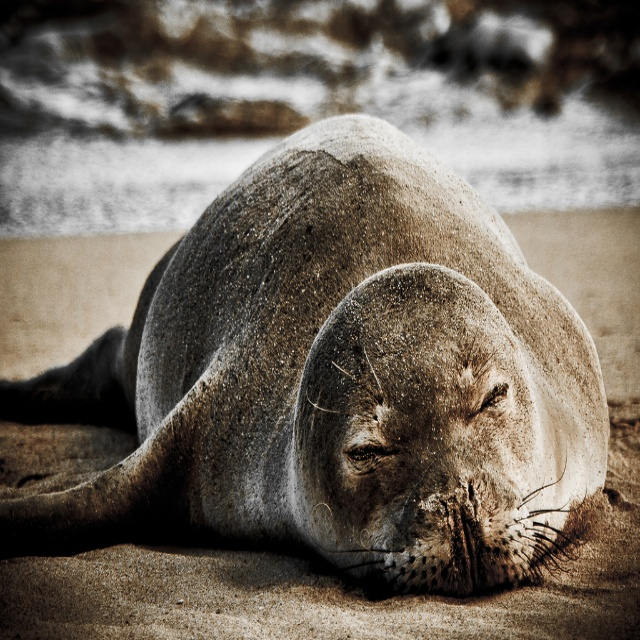Sea lion: (0, 104, 610, 594)
